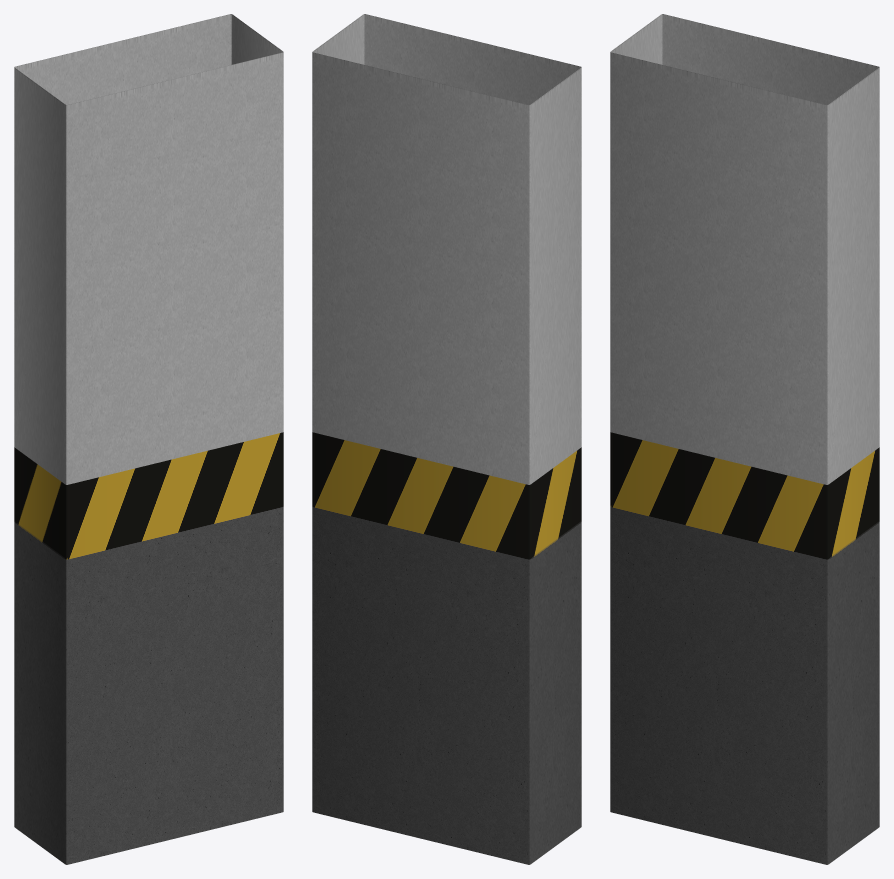
Rendered from Column1_oldMats.FBX.
3 views of the same model, side by side, from view 1: azimuth 30°, elevation 25°; view 2: azimuth 150°, elevation 25°; view 3: azimuth 330°, elevation 25° (orthographic).
Parts seen in each view (by area): view 1: Column_Up, Column_Down; view 2: Column_Up, Column_Down; view 3: Column_Up, Column_Down.
Part boxes in pixels (box(x1,y1,x2,y2)): Column_Up: box(14, 14, 283, 484); Column_Down: box(14, 432, 283, 864); Column_Up: box(312, 14, 581, 484); Column_Down: box(312, 432, 581, 864); Column_Up: box(610, 14, 879, 484); Column_Down: box(610, 432, 879, 864).
Bounding box in the file's own units: 600 × 2000 × 250.
1 material, 1 textured.
